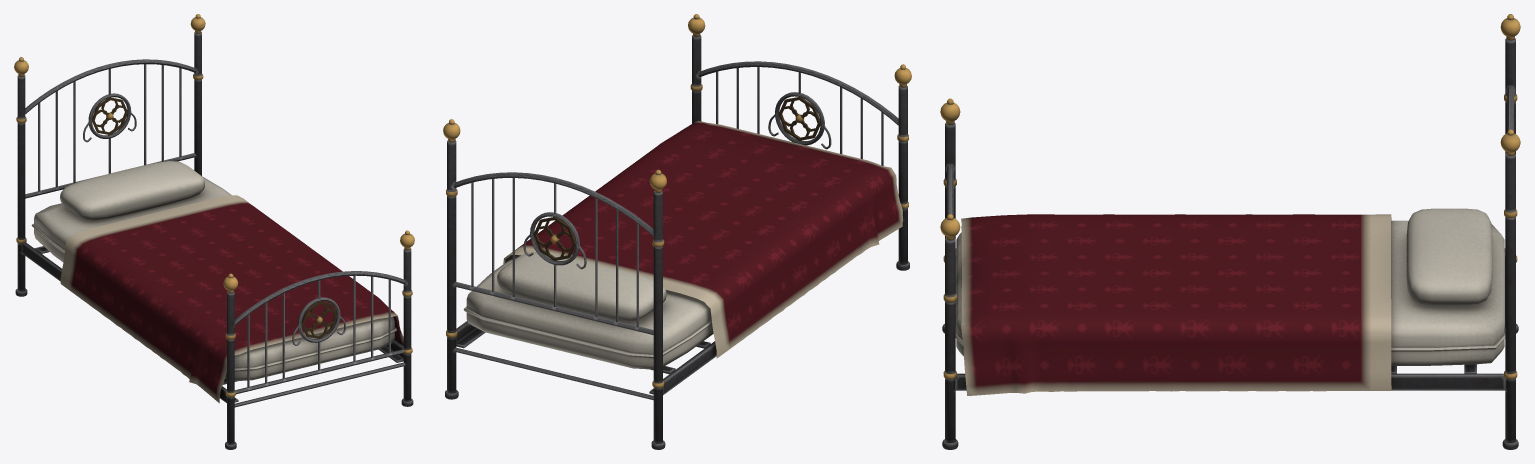
File: DormBed.fbx
The picture shows the model from 3 angles, left to right: view 1: azimuth 30°, elevation 25°; view 2: azimuth 150°, elevation 25°; view 3: azimuth 270°, elevation 25°; orthographic projection. The views are drawn at different scales.
Parts seen in each view (by area): view 1: DormBed; view 2: DormBed; view 3: DormBed.
Part boxes in pixels (bbox=[...]): DormBed: bbox=[14, 14, 414, 449]; DormBed: bbox=[443, 14, 911, 449]; DormBed: bbox=[940, 14, 1520, 449].
Bounding box in the file's own units: 427 × 488 × 808.
